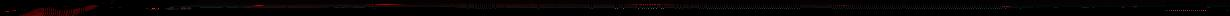Blue cone: (118, 7, 122, 8), (110, 7, 113, 8)
Yellow cone: (1132, 6, 1138, 8)
